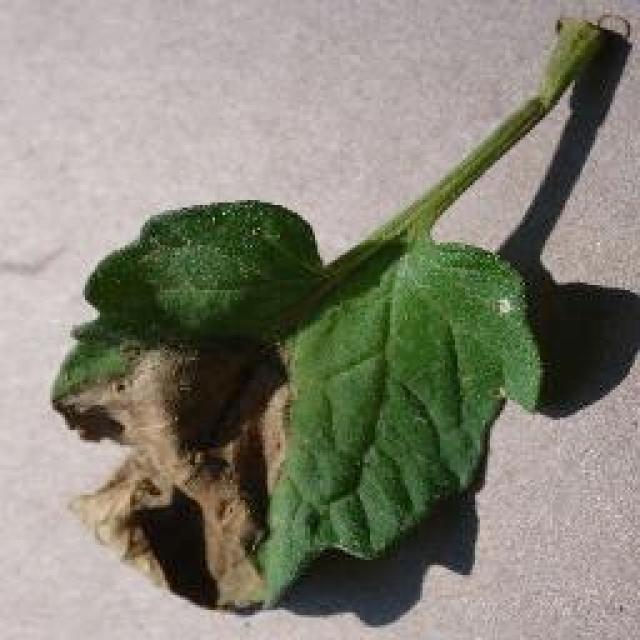Tomato late blight leaf: (43, 200, 540, 618)
